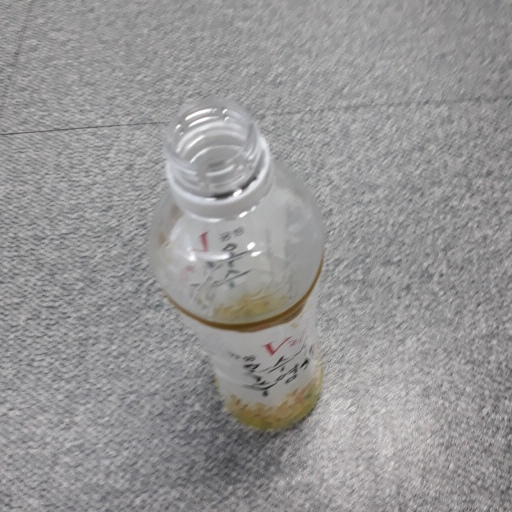Plastic_0: (146, 100, 328, 434)
